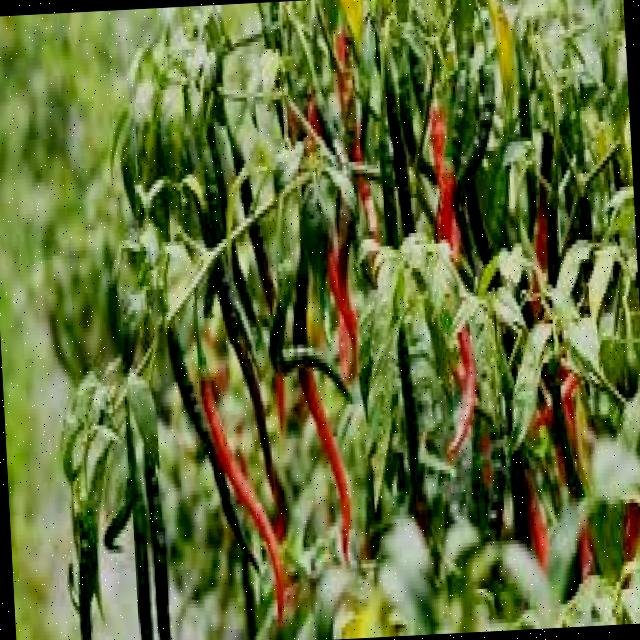healthy: (30, 23, 640, 640)
